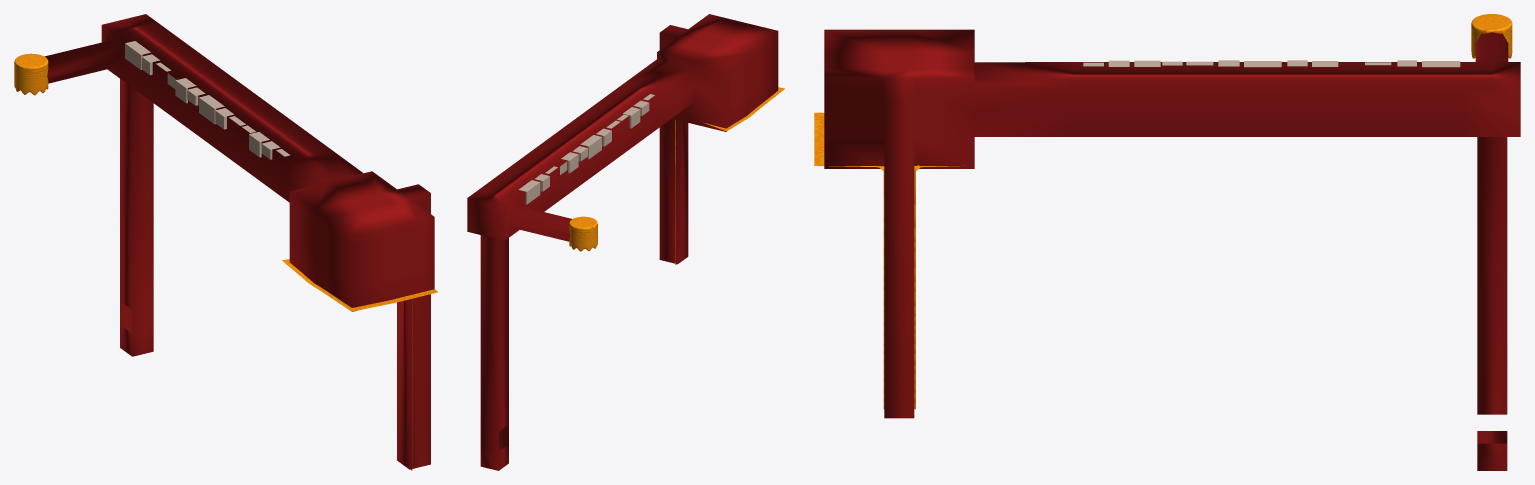
The model's file is LVL3_MagmaTunnel.fbx.
The picture shows the model from 3 angles, left to right: view 1: azimuth 30°, elevation 25°; view 2: azimuth 150°, elevation 25°; view 3: azimuth 270°, elevation 25°; orthographic projection. The views are drawn at different scales.
Visible parts, largest first — view 1: Magma tunnel, Facility, Chasing Lava, Floor Lava; view 2: Magma tunnel, Facility, Chasing Lava, Floor Lava; view 3: Magma tunnel, Facility, Floor Lava, Chasing Lava.
Boxes of the visible parts, bbox=[...] form: Magma tunnel: bbox=[44, 14, 434, 469]; Facility: bbox=[125, 41, 290, 159]; Chasing Lava: bbox=[14, 53, 48, 95]; Floor Lava: bbox=[282, 259, 437, 470]; Magma tunnel: bbox=[467, 14, 778, 470]; Facility: bbox=[518, 94, 654, 204]; Chasing Lava: bbox=[569, 216, 597, 251]; Floor Lava: bbox=[675, 87, 784, 264]; Magma tunnel: bbox=[824, 29, 1520, 470]; Facility: bbox=[1083, 60, 1460, 67]; Floor Lava: bbox=[814, 112, 966, 409]; Chasing Lava: bbox=[1471, 14, 1512, 58].
Size of the model in its own units: 53087 by 102833 by 165068.
